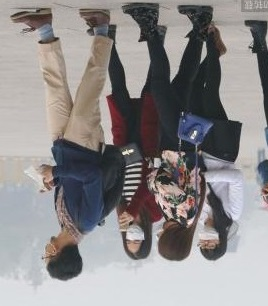person: (7, 8, 113, 281), (93, 7, 161, 263), (154, 6, 209, 263), (194, 155, 243, 259)
